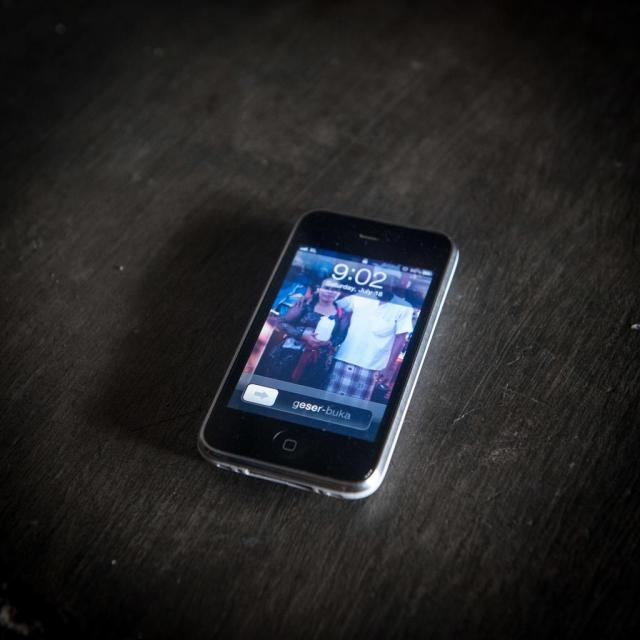Phone: (187, 207, 481, 505)
